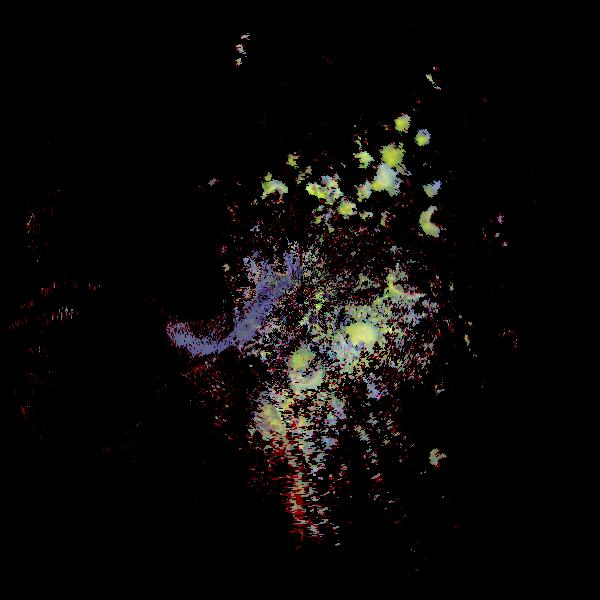roost: (380, 250, 440, 310), (329, 316, 383, 370), (420, 441, 471, 492), (276, 348, 327, 399), (253, 174, 298, 219), (417, 204, 450, 237)
